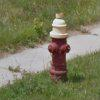Hydrant: (39, 7, 80, 89)
